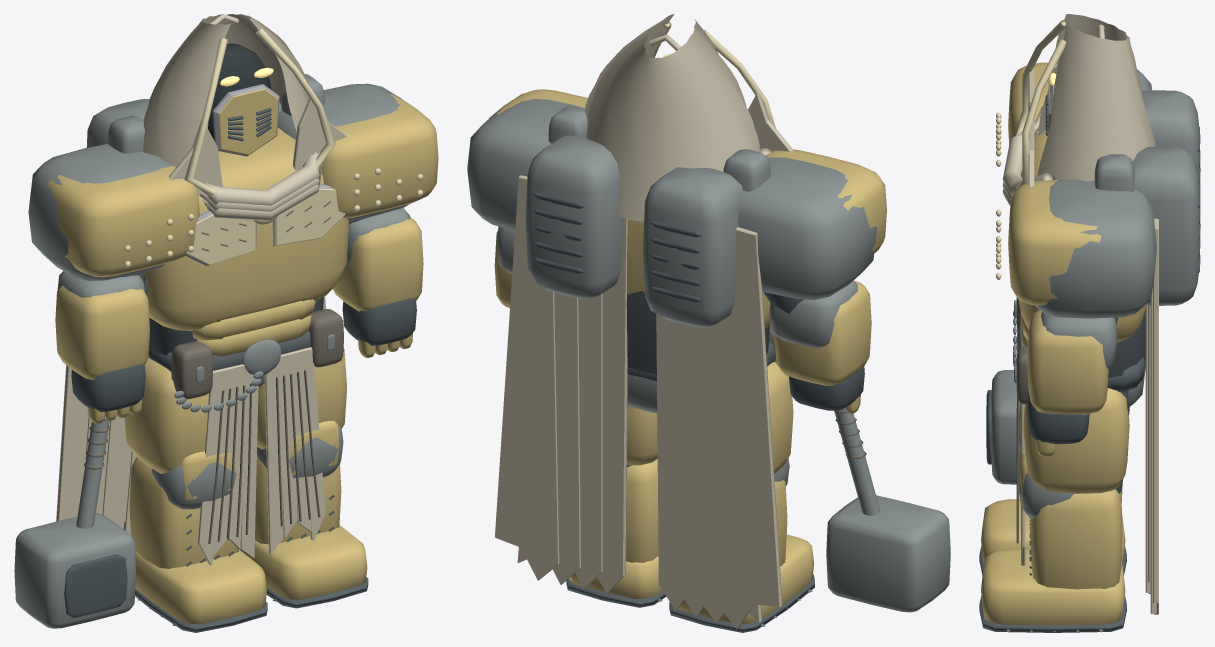
File: archamus_hooded.glb
3 views of the same model, side by side, from view 1: azimuth 30°, elevation 25°; view 2: azimuth 150°, elevation 25°; view 3: azimuth 270°, elevation 25° (orthographic). The views are drawn at different scales.
Parts seen in each view (by area): view 1: Layered cuirass gold shell, Left gold shoulder plate, Weathered cloth hood shell, Right gold shoulder plate, Dark square warhammer head, Left gold forearm shell, Left heavy boot, Left oversize shoulder shell, Right heavy boot, Right gold forearm shell, Left thigh gold plate, Left broad greave (+46 smaller); view 2: Weathered cloth hood shell, Weathered cloak strip -1-3, Weathered cloak strip 1-3, Left oversize shoulder shell, Left rear reactor housing, Right rear reactor housing, Dark square warhammer head, Weathered cloak strip 1-0, Right oversize shoulder shell, Weathered cloak strip 1-2, Weathered cloak strip 1-1, Weathered cloak strip -1-2 (+24 smaller); view 3: Weathered cloth hood shell, Right oversize shoulder shell, Right broad greave, Right rear reactor housing, Right heavy boot, Right thigh gold plate, Right gold shoulder plate, Right gold forearm shell, Left rear reactor housing, Dark square warhammer head, Weathered cloak strip 1-3, Left heavy boot (+20 smaller).
Boxes of the visible parts, x1,y1,x2,y2 form: Layered cuirass gold shell: (142,128,348,330); Left gold shoulder plate: (47,165,199,277); Weathered cloth hood shell: (143,14,309,166); Right gold shoulder plate: (321,94,438,218); Dark square warhammer head: (14,513,135,628); Left gold forearm shell: (55,285,149,379); Left heavy boot: (135,549,266,624); Left oversize shoulder shell: (28,143,175,280); Right heavy boot: (240,525,367,599); Right gold forearm shell: (333,217,423,311); Left thigh gold plate: (124,357,208,473); Left broad greave: (129,457,238,568); Weathered cloth hood shell: (584,14,759,221); Weathered cloak strip -1-3: (716,227,782,628); Weathered cloak strip 1-3: (495,175,559,580); Left oversize shoulder shell: (738,157,876,299); Left rear reactor housing: (643,167,743,327); Right rear reactor housing: (525,135,622,299); Dark square warhammer head: (826,495,950,612); Weathered cloak strip 1-0: (597,218,627,593); Right oversize shoulder shell: (467,99,584,230); Weathered cloak strip 1-2: (517,292,580,584); Weathered cloak strip 1-1: (575,293,602,589); Weathered cloak strip -1-2: (697,321,762,622); Weathered cloth hood shell: (1037,14,1155,181); Right oversize shoulder shell: (1036,179,1156,318); Right broad greave: (1030,489,1122,589); Right rear reactor housing: (1132,147,1200,305); Right heavy boot: (981,548,1125,625); Right thigh gold plate: (1023,388,1129,493); Right gold shoulder plate: (1008,180,1101,305); Right gold forearm shell: (1027,309,1108,414); Left rear reactor housing: (1141,90,1200,183); Dark square warhammer head: (991,370,1019,484); Weathered cloak strip 1-3: (1153,218,1158,614); Left heavy boot: (981,499,1125,563).
Bounding box in the file's own units: 3.53 × 4.63 × 1.62.
